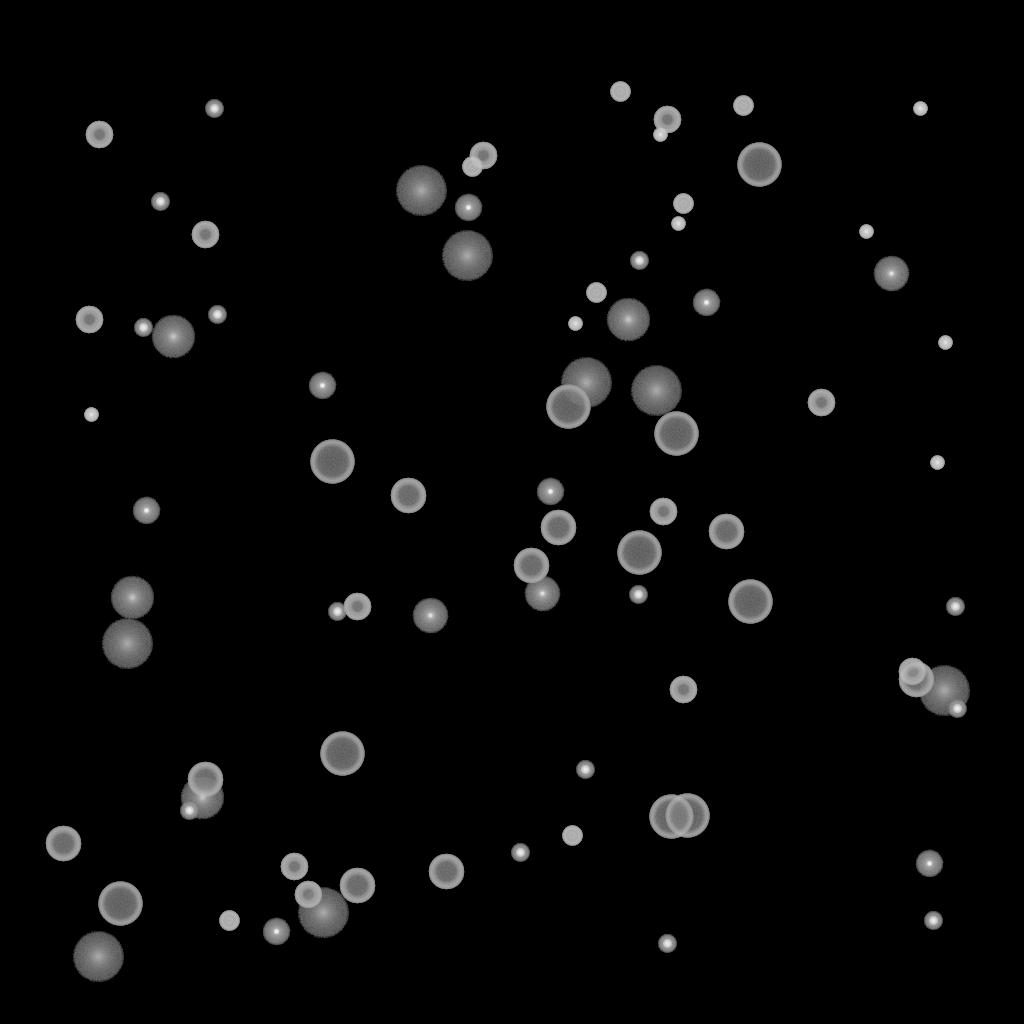depth:-10: (454, 194, 482, 222), (692, 289, 720, 317), (536, 478, 564, 506), (132, 497, 160, 525), (308, 372, 336, 400), (262, 918, 290, 946), (915, 850, 943, 878)
depth:-20: (630, 252, 648, 270), (924, 912, 942, 930), (948, 700, 966, 718), (511, 844, 529, 862), (629, 586, 647, 604), (208, 306, 226, 324), (180, 802, 198, 820), (134, 319, 152, 337), (205, 100, 223, 118), (658, 935, 676, 953), (576, 761, 594, 779), (946, 598, 964, 616), (328, 603, 346, 621), (151, 193, 169, 211)
depth:-30: (859, 225, 873, 239), (938, 336, 952, 350), (568, 317, 582, 331), (671, 217, 685, 231), (913, 102, 927, 116), (84, 408, 98, 422), (653, 128, 667, 142), (930, 456, 944, 470)
depth:-40: (562, 826, 582, 846), (610, 82, 630, 102), (673, 194, 693, 214), (586, 283, 606, 303), (219, 911, 239, 931), (462, 157, 482, 177), (733, 96, 753, 116)
depth:-50: (75, 306, 103, 334), (807, 389, 835, 417), (191, 221, 219, 249), (294, 881, 322, 909), (649, 498, 677, 526), (669, 676, 697, 704), (653, 106, 681, 134), (85, 121, 113, 149), (343, 593, 371, 621), (280, 853, 308, 881), (469, 142, 497, 170), (898, 658, 926, 686)
depth:-60: (708, 514, 744, 550), (898, 662, 934, 698), (187, 762, 223, 798), (540, 510, 576, 546), (45, 826, 81, 862), (428, 854, 464, 890), (390, 478, 426, 514), (513, 548, 549, 584), (339, 868, 375, 904)
depth:-70: (728, 580, 772, 624), (546, 385, 590, 429), (737, 143, 781, 187), (320, 732, 364, 776), (98, 882, 142, 926), (665, 794, 709, 838), (654, 412, 698, 456), (310, 440, 354, 484), (649, 795, 693, 839), (617, 531, 661, 575)
depth:0: (873, 256, 909, 292), (524, 576, 560, 612), (412, 598, 448, 634)
depth:10: (180, 776, 224, 820), (151, 315, 195, 359), (110, 576, 154, 620), (606, 298, 650, 342)
depth:20: (441, 231, 493, 281), (297, 888, 349, 938), (560, 358, 612, 408), (918, 666, 970, 716), (72, 932, 124, 982), (101, 619, 153, 669), (395, 166, 447, 216), (630, 366, 682, 416)
